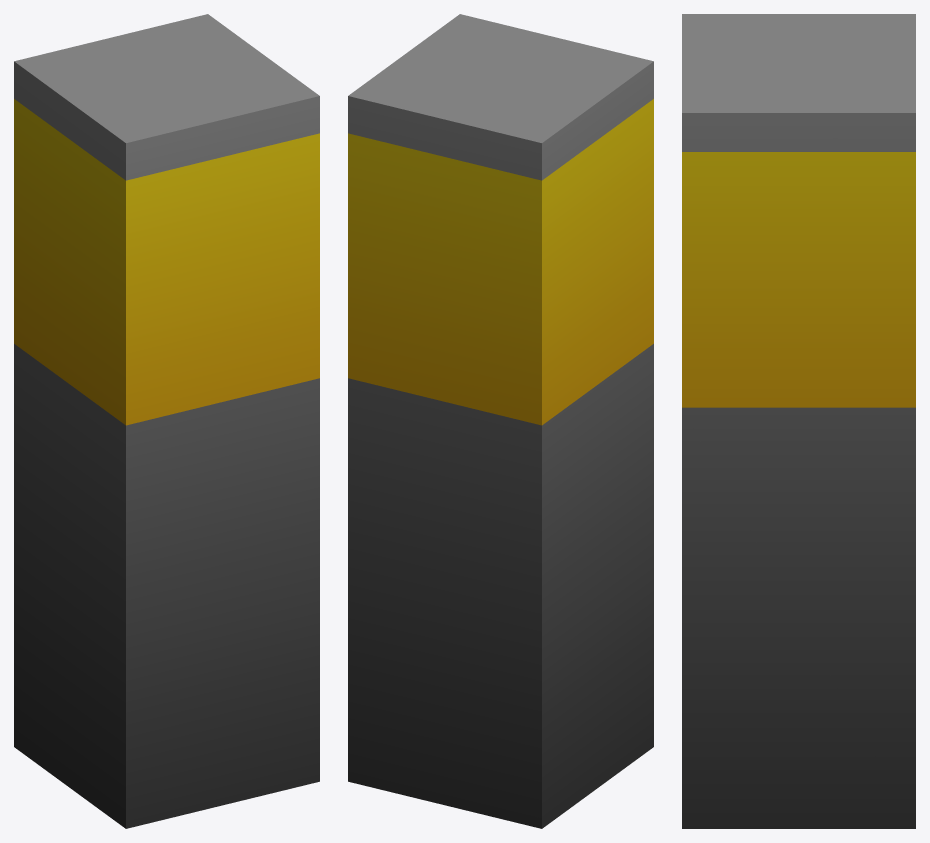
The model's file is lamp.fbx.
The picture shows the model from 3 angles, left to right: view 1: azimuth 30°, elevation 25°; view 2: azimuth 150°, elevation 25°; view 3: azimuth 270°, elevation 25°; orthographic projection. The views are drawn at different scales.
Parts seen in each view (by area): view 1: lawn_with_lamp_1; view 2: lawn_with_lamp_1; view 3: lawn_with_lamp_1.
Part boxes in pixels (x1,y1,x2,y2): lawn_with_lamp_1: (14,14,319,828); lawn_with_lamp_1: (348,14,653,828); lawn_with_lamp_1: (682,14,915,828).
Size of the model in its own units: 31.77 by 107 by 31.77.
1 material, 1 textured.
